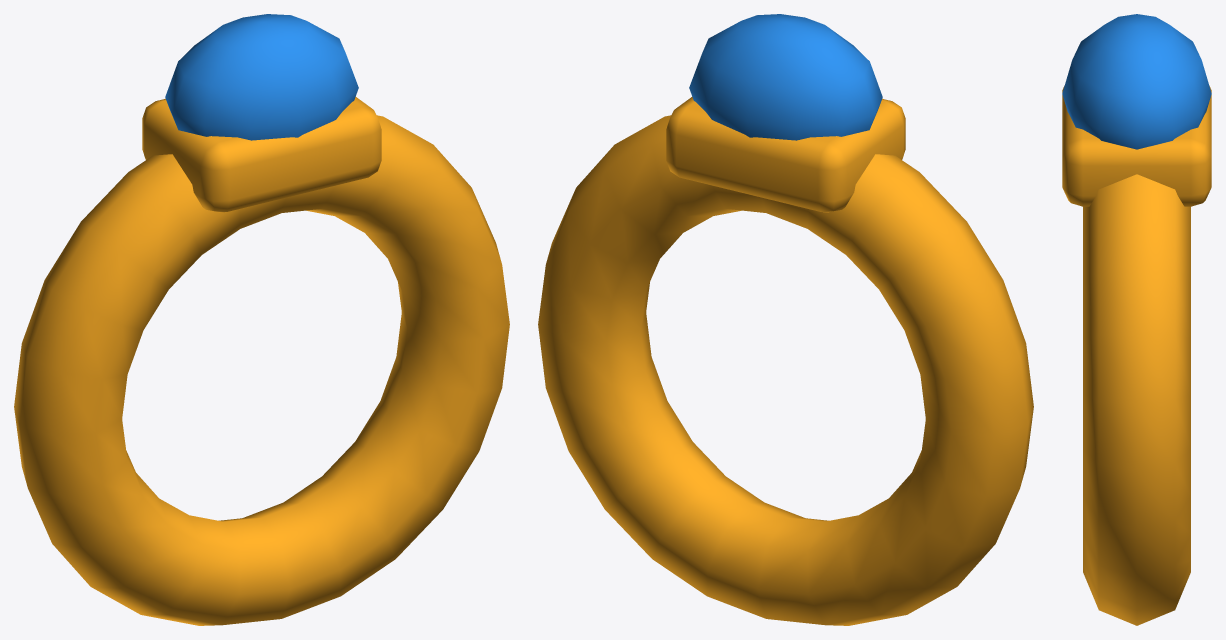
Rendered from goldring.glb.
3 views of the same model, side by side, from view 1: azimuth 30°, elevation 25°; view 2: azimuth 150°, elevation 25°; view 3: azimuth 270°, elevation 25° (orthographic). The views are drawn at different scales.
Parts seen in each view (by area): view 1: goldring; view 2: goldring; view 3: goldring.
Part boxes in pixels (bbox=[...]): goldring: bbox=[14, 14, 509, 625]; goldring: bbox=[538, 14, 1033, 625]; goldring: bbox=[1062, 14, 1211, 625].
Size of the model in its own units: 0.8497 by 1 by 0.2353.
Materials: 1 (1 with a texture image).
